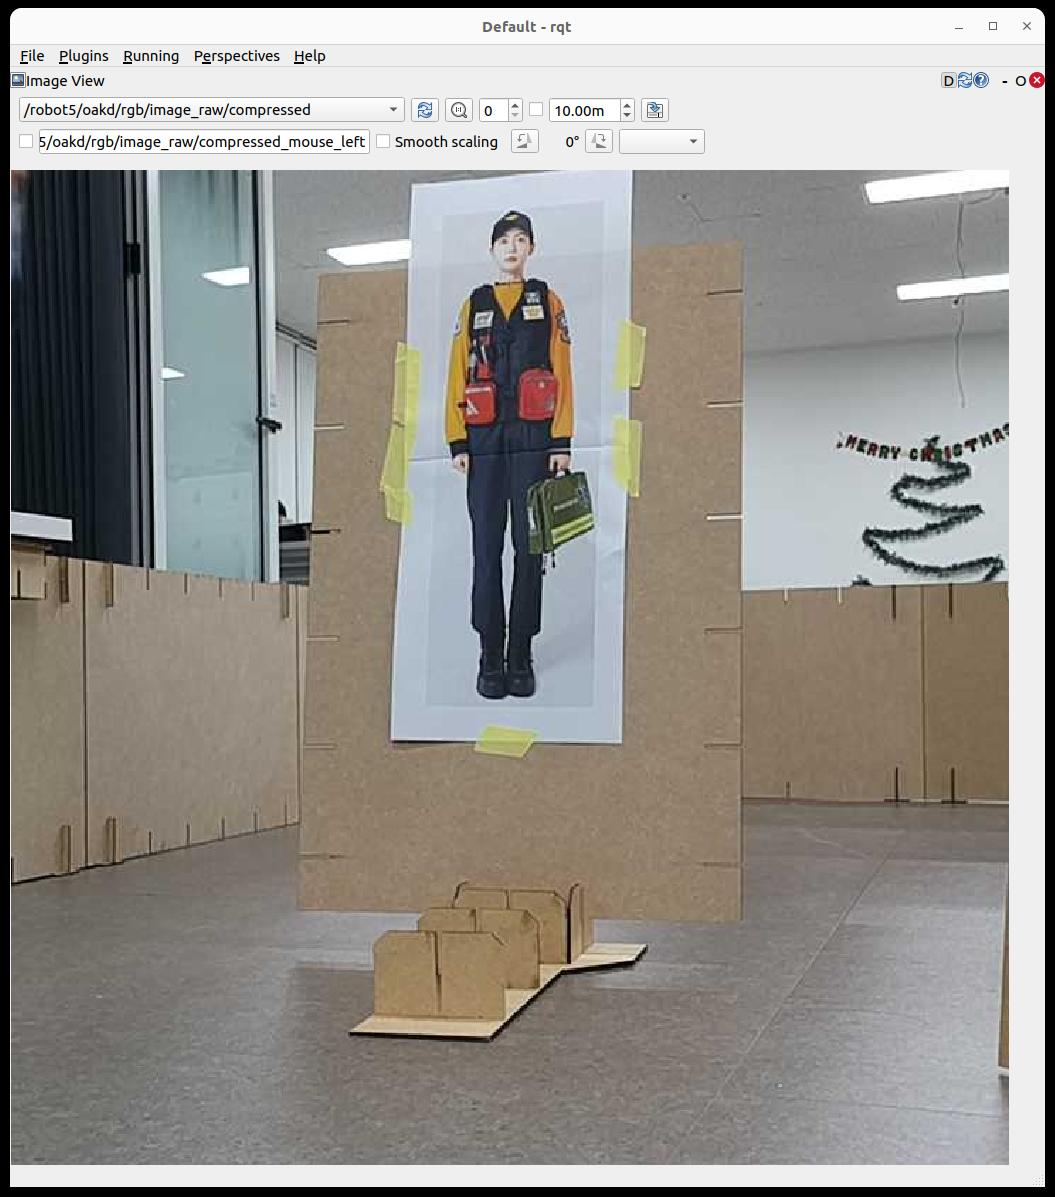Responder: (445, 213, 574, 698)
